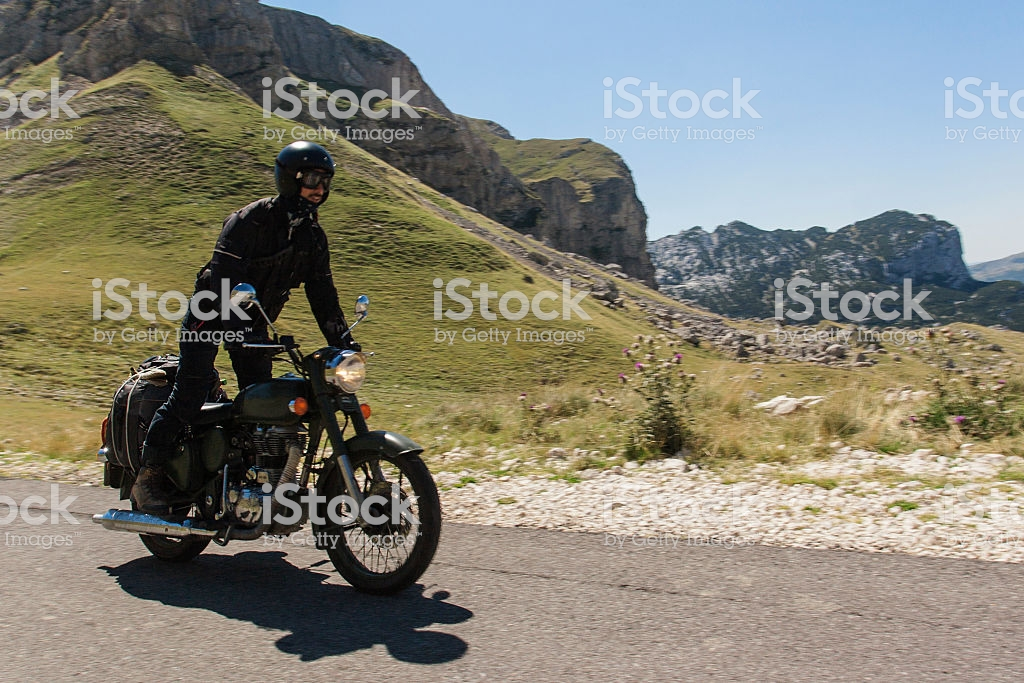helmet: (277, 145, 336, 213)
